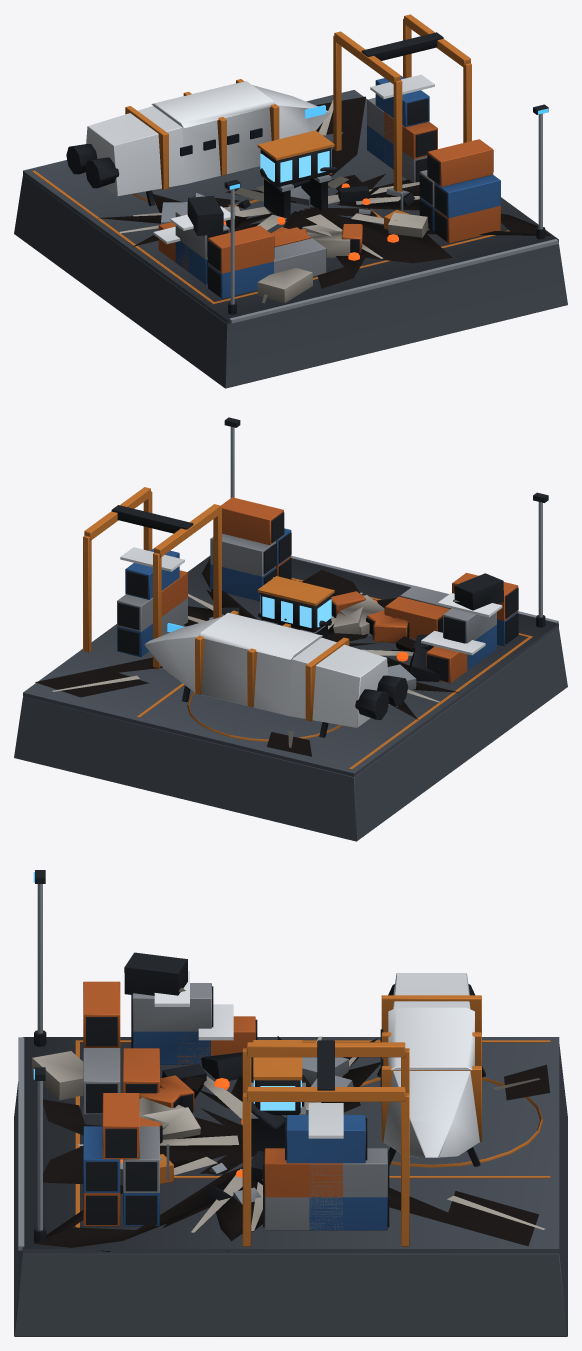
The model's file is freight-terminal-vesper.glb.
The picture shows the model from 3 angles, top to bottom: view 1: azimuth 30°, elevation 25°; view 2: azimuth 150°, elevation 25°; view 3: azimuth 270°, elevation 25°; orthographic projection. The views are drawn at different scales.
Visible parts, largest first — view 1: site_freight_terminal_vesper_body, site_freight_terminal_vesper_ruin, site_freight_terminal_vesper_core; view 2: site_freight_terminal_vesper_body, site_freight_terminal_vesper_ruin, site_freight_terminal_vesper_core; view 3: site_freight_terminal_vesper_body, site_freight_terminal_vesper_ruin, site_freight_terminal_vesper_core.
Boxes of the visible parts, x1,y1,x2,y2 form: site_freight_terminal_vesper_body: (14, 14, 567, 388); site_freight_terminal_vesper_ruin: (97, 96, 550, 303); site_freight_terminal_vesper_core: (257, 130, 334, 186); site_freight_terminal_vesper_body: (14, 417, 567, 841); site_freight_terminal_vesper_ruin: (35, 558, 503, 756); site_freight_terminal_vesper_core: (257, 576, 334, 632); site_freight_terminal_vesper_body: (14, 870, 567, 1336); site_freight_terminal_vesper_ruin: (31, 952, 550, 1251); site_freight_terminal_vesper_core: (253, 1040, 302, 1115).
Size of the model in its own units: 5.9 by 3.2 by 6.3.
